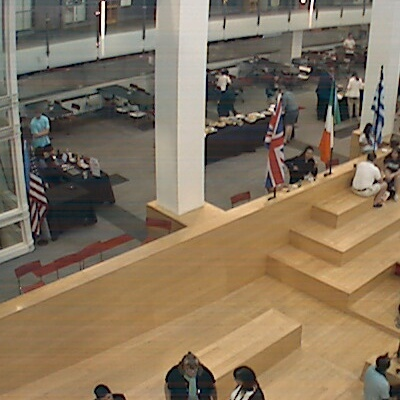head: (229, 364, 265, 389), (175, 351, 206, 376), (92, 382, 113, 400), (375, 353, 392, 373), (302, 143, 318, 161), (360, 121, 375, 136), (32, 106, 46, 121), (43, 143, 56, 156), (387, 147, 400, 160), (271, 71, 283, 82), (233, 84, 245, 95), (366, 151, 377, 162), (325, 64, 336, 74), (221, 69, 231, 77), (276, 85, 286, 92), (346, 31, 355, 38)
